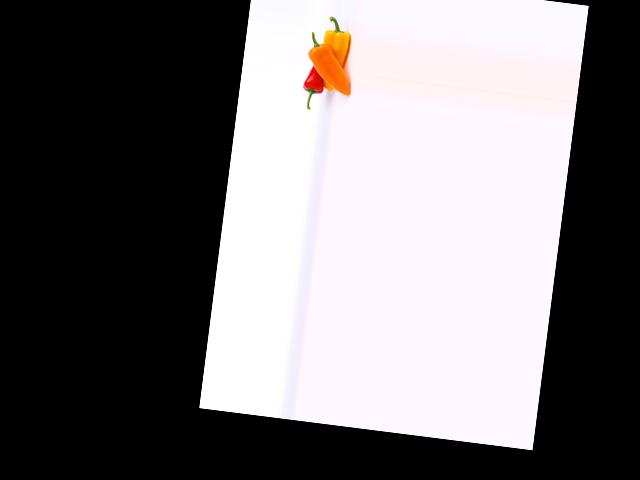bell_pepper: (316, 13, 358, 75)
